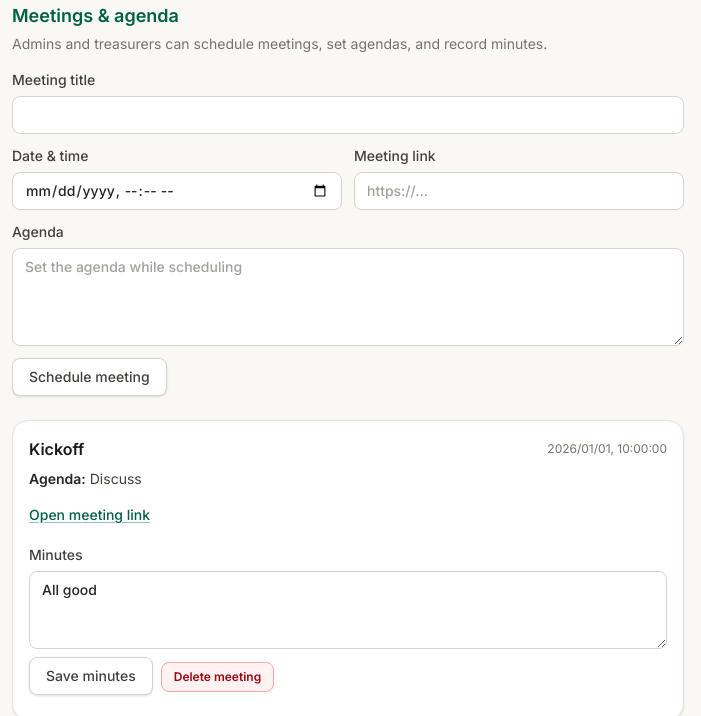
Scenario: AdminEditStokvel › Meetings › handles delete meeting error
The width and height of the screenshot is (701, 716).
(page scrolled)
Click the button "Delete meeting" at x=217, y=677, box [161, 662, 274, 692]
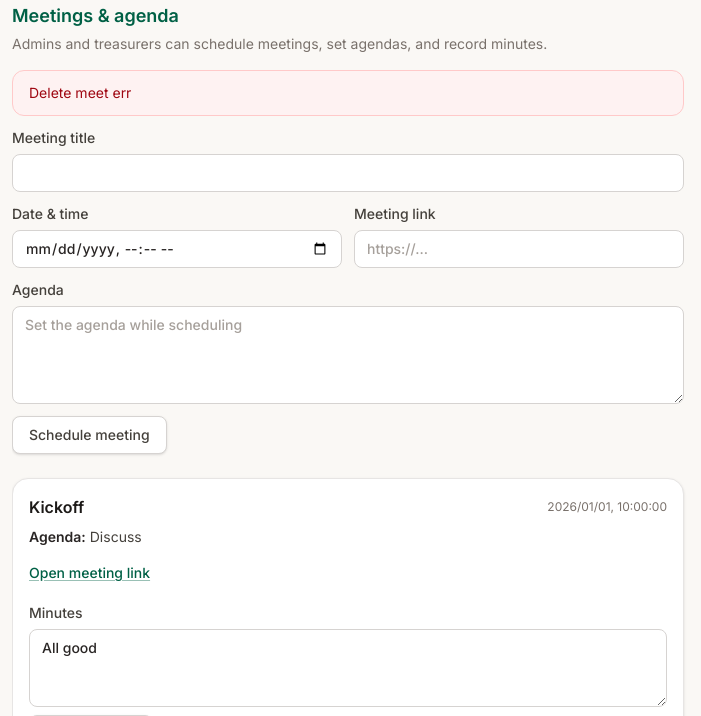
Expected: the text "Delete meet err" is shown, [12, 70, 684, 116]
